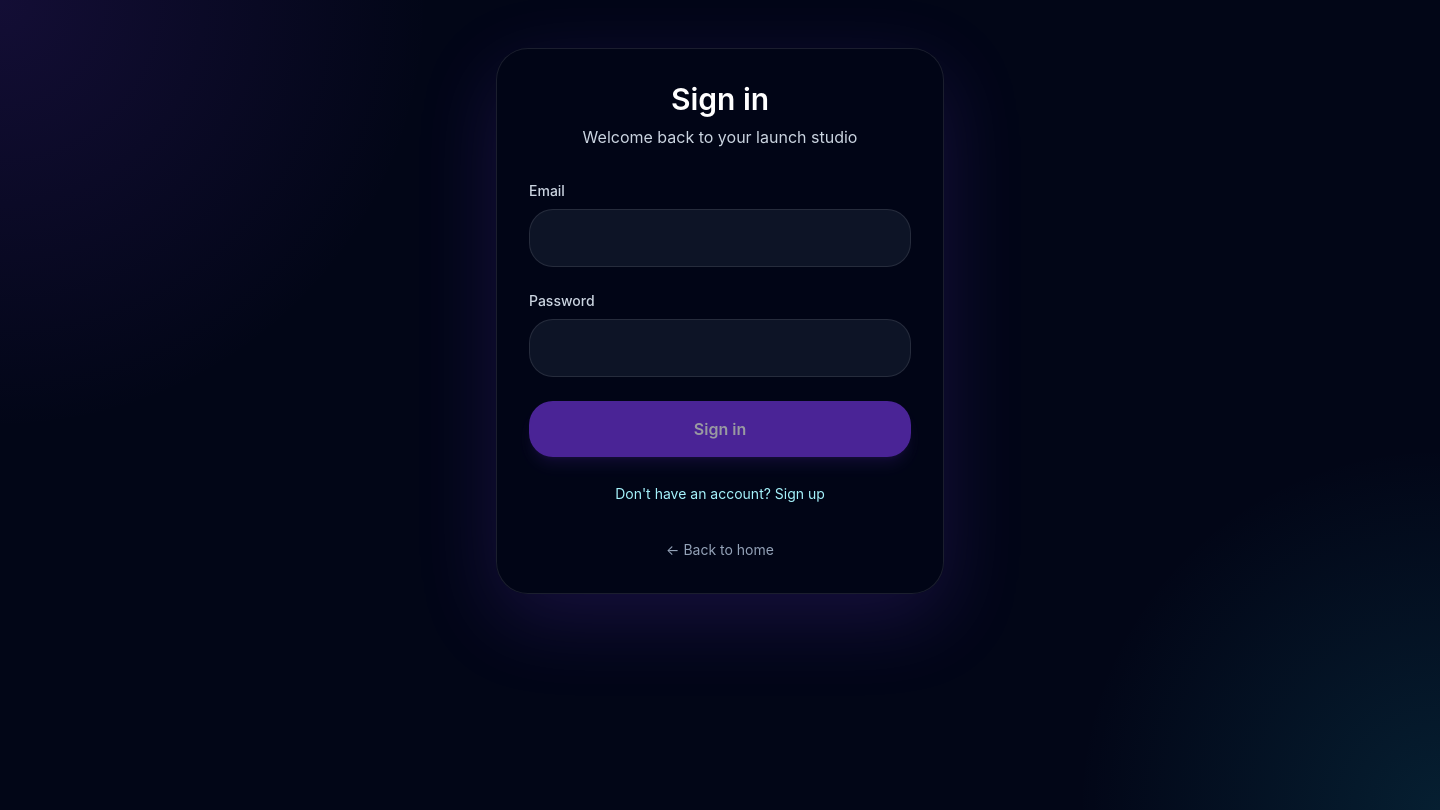
Test: Login Page › validates email on blur
The image size is (1440, 810).
Type "invalid" into the field labelled "Email".
click(720, 238); type("invalid")  # box top-left (529, 209), bottom-right (911, 267)
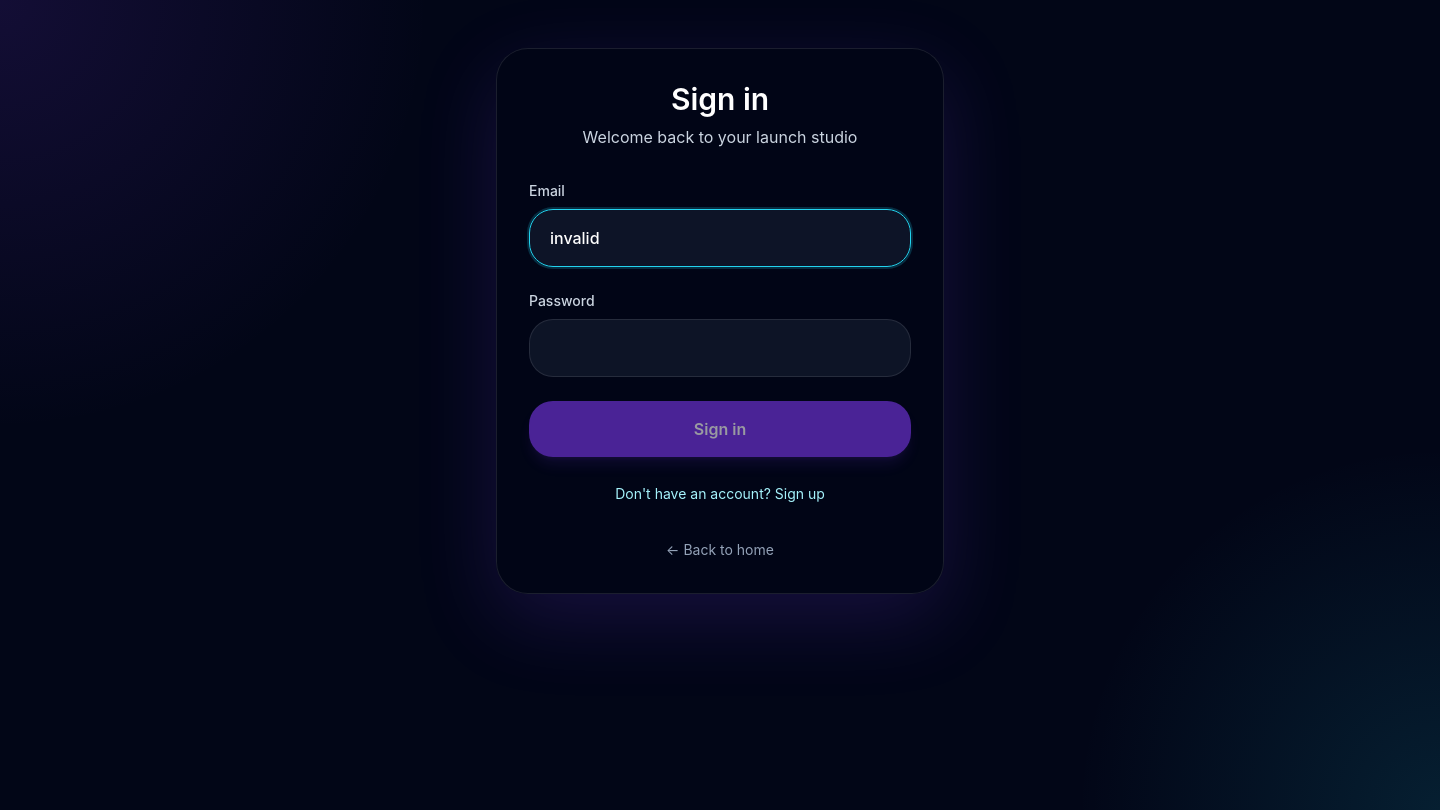
Press Tab
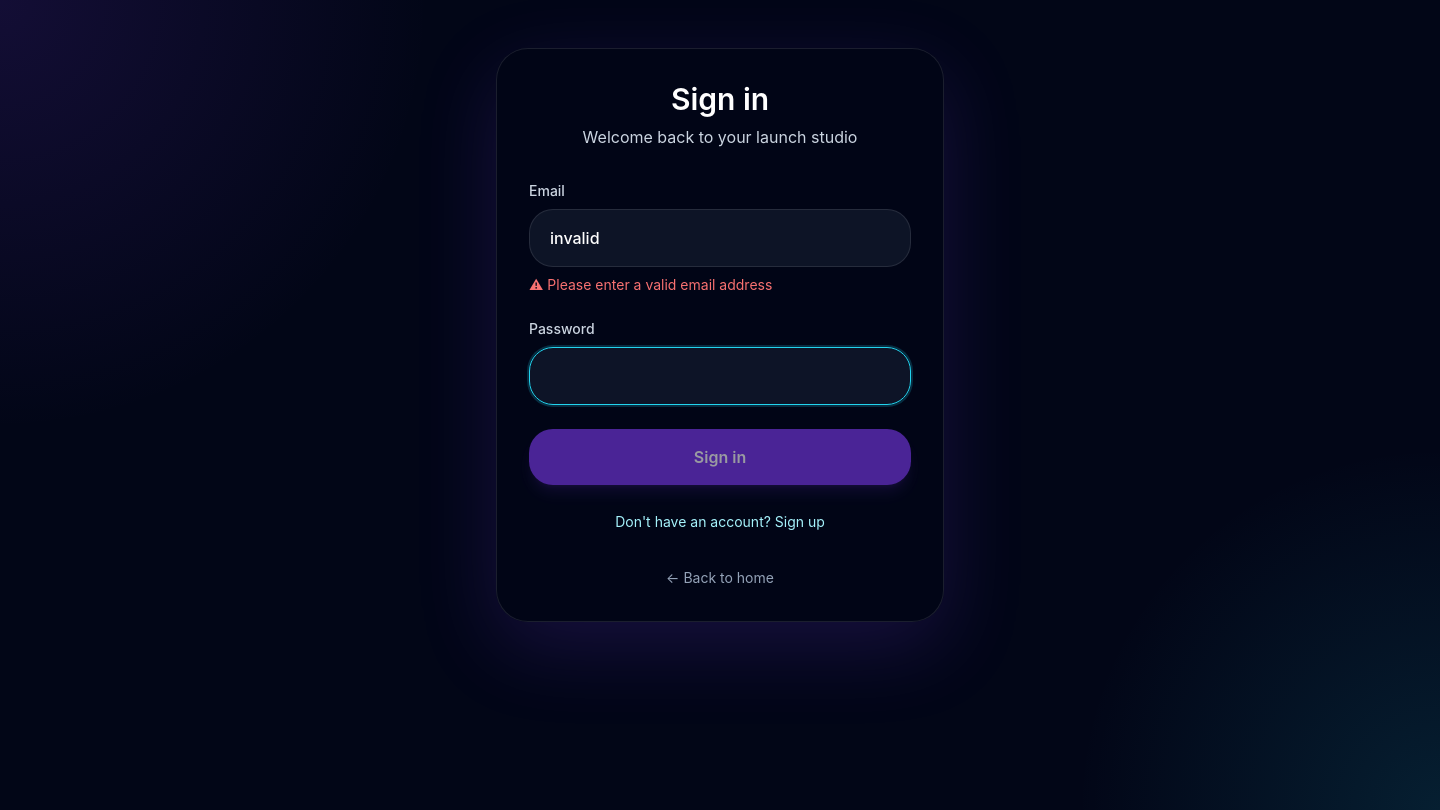
Expected: the text "⚠ Please enter a valid email address" is shown, top-left (529, 276), bottom-right (772, 293)
